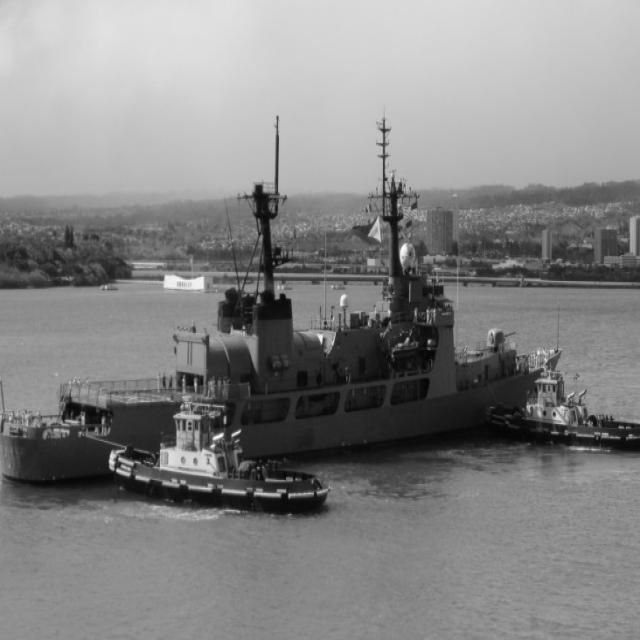Fragata: (57, 84, 576, 481)
